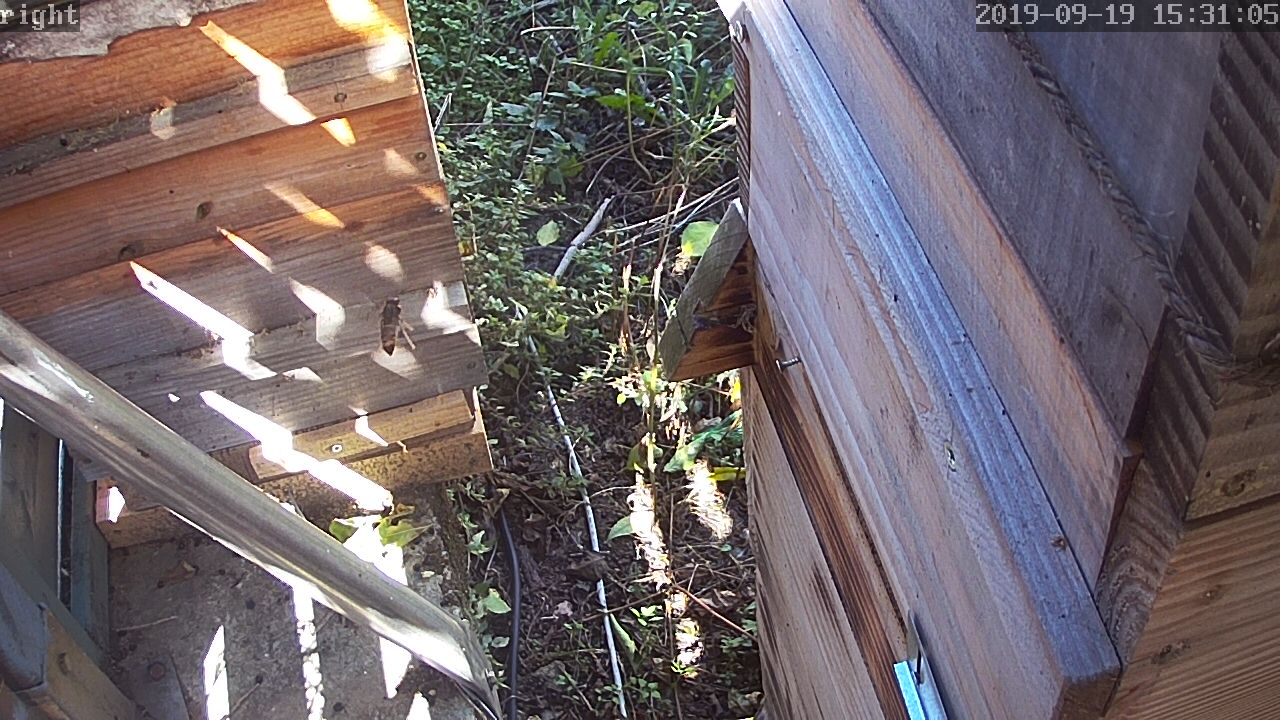hornet: (37, 7, 1252, 720)
